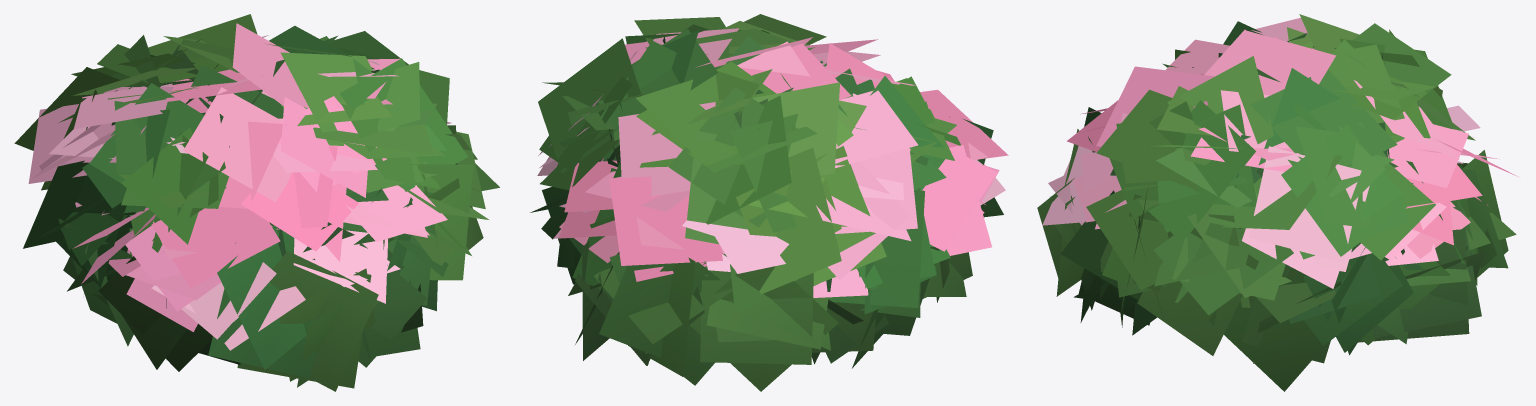
The model's file is tree-village-bush-azalea-v2.glb.
The picture shows the model from 3 angles, left to right: view 1: azimuth 30°, elevation 25°; view 2: azimuth 150°, elevation 25°; view 3: azimuth 270°, elevation 25°; orthographic projection. The views are drawn at different scales.
Parts seen in each view (by area): view 1: cards_round, cards_sakura; view 2: cards_round, cards_sakura; view 3: cards_round, cards_sakura.
Part boxes in pixels (box(x1,y1,x2,y2)): cards_round: box(14, 14, 499, 391); cards_sakura: box(28, 23, 451, 350); cards_round: box(530, 14, 1003, 391); cards_sakura: box(537, 28, 1008, 297); cards_round: box(1037, 14, 1516, 391); cards_sakura: box(1042, 17, 1519, 288).
Size of the model in its own units: 1.94 by 1.18 by 2.
